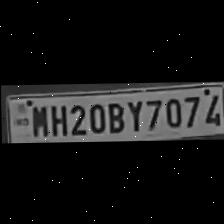0: (160, 94, 182, 128), (86, 100, 104, 134)
2: (65, 101, 84, 134)
4: (199, 91, 221, 126)
7: (141, 96, 161, 130), (180, 92, 198, 127)
B: (104, 99, 124, 134)
H: (46, 102, 66, 136)
M: (28, 103, 46, 136)
Y: (124, 97, 144, 132)
